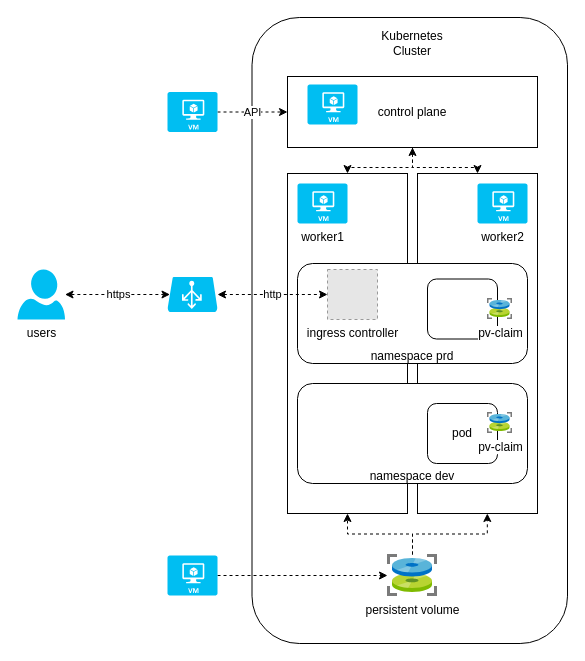
Image size: 585x661. Some labels were removed from this diagram. Grey dashed boxes stand in for pictures. The shapes that lost their labels are listed below. From the top down, each one's centre as x and y in pixels, then its label:
At point 192,112: "BASTION".
At point 332,104: "master".
At point 192,294: "load balancer".
At point 462,308: "pod app".
At point 192,575: "NFS".
